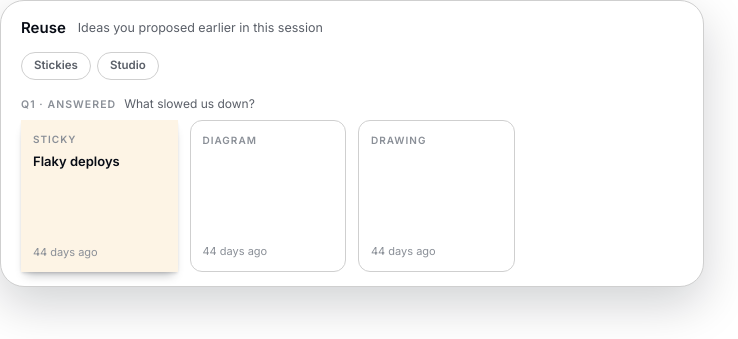
Scenario: my proposals panel with a lot to choose from › narrows the list to one kind of idea, and back
The image size is (738, 339).
Click the button "Studio". click: x=128, y=66
box: left=97, top=52, right=159, bottom=80
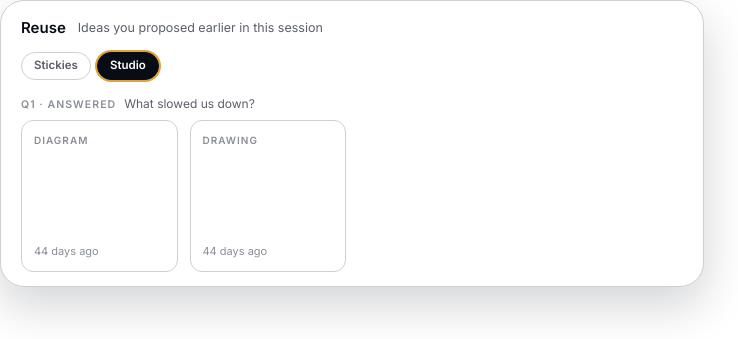
Check: the text "Diagram" is shown, box left=34, top=133, right=88, bottom=148
Check: the button "Flaky deploys" is gone
Click the button "Studio". click: x=128, y=66
box: left=97, top=52, right=159, bottom=80
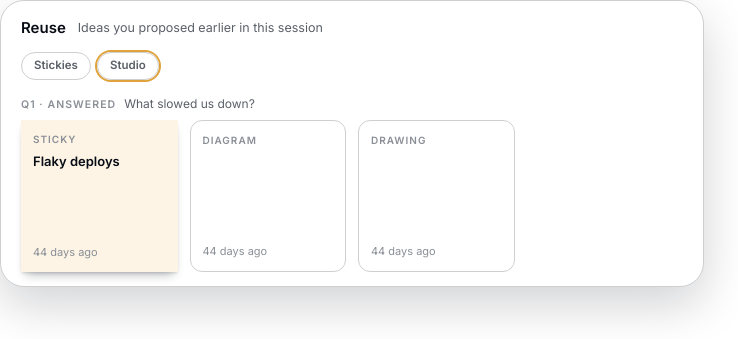
Check: the text "Flaky deploys" is shown, box left=33, top=153, right=120, bottom=171
